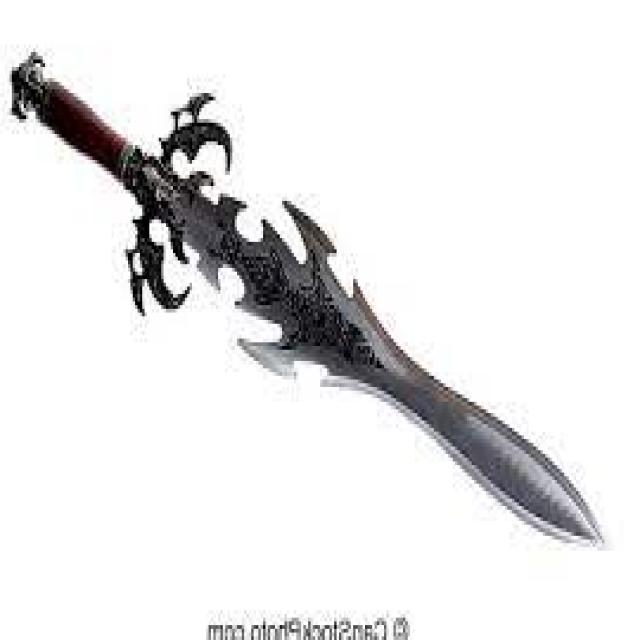Gun: (0, 38, 640, 562)
